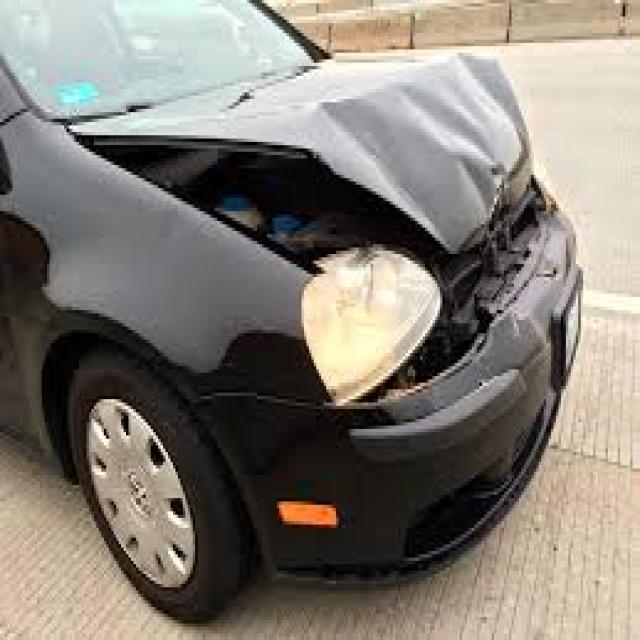moderate: (64, 89, 626, 422)
